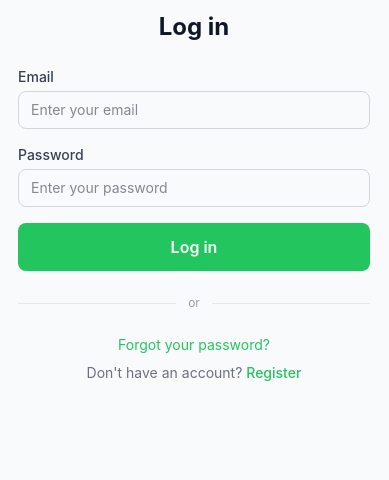
Scenario: Login › shows verify email message when unverified
Type "test@example.com" into the field with placeholder "Enter your email". click: (194,110)
box: [18, 91, 370, 129]
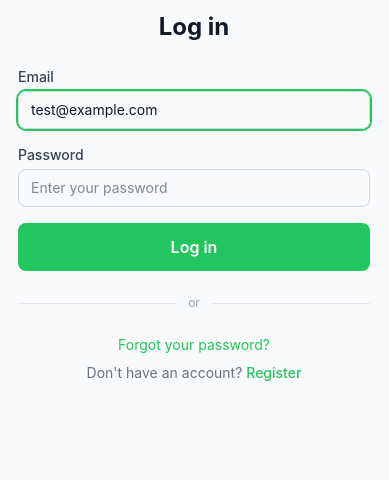
Type "password123" into the password field with placeholder "Enter your password". click: (194,188)
box: [18, 169, 370, 207]
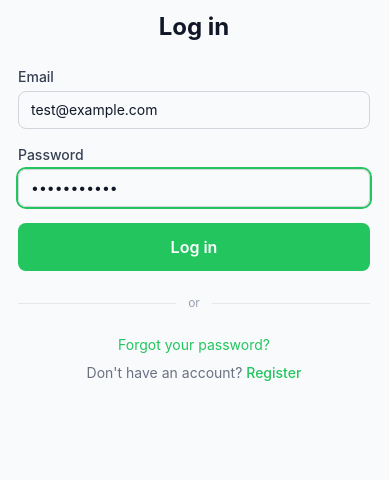
Click the button "Log in". click: (194,247)
box: [18, 223, 370, 271]
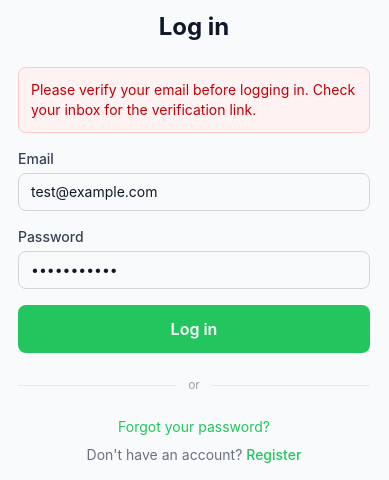
Now the text "verify your email before logging in" is shown, box [31, 81, 355, 118]
